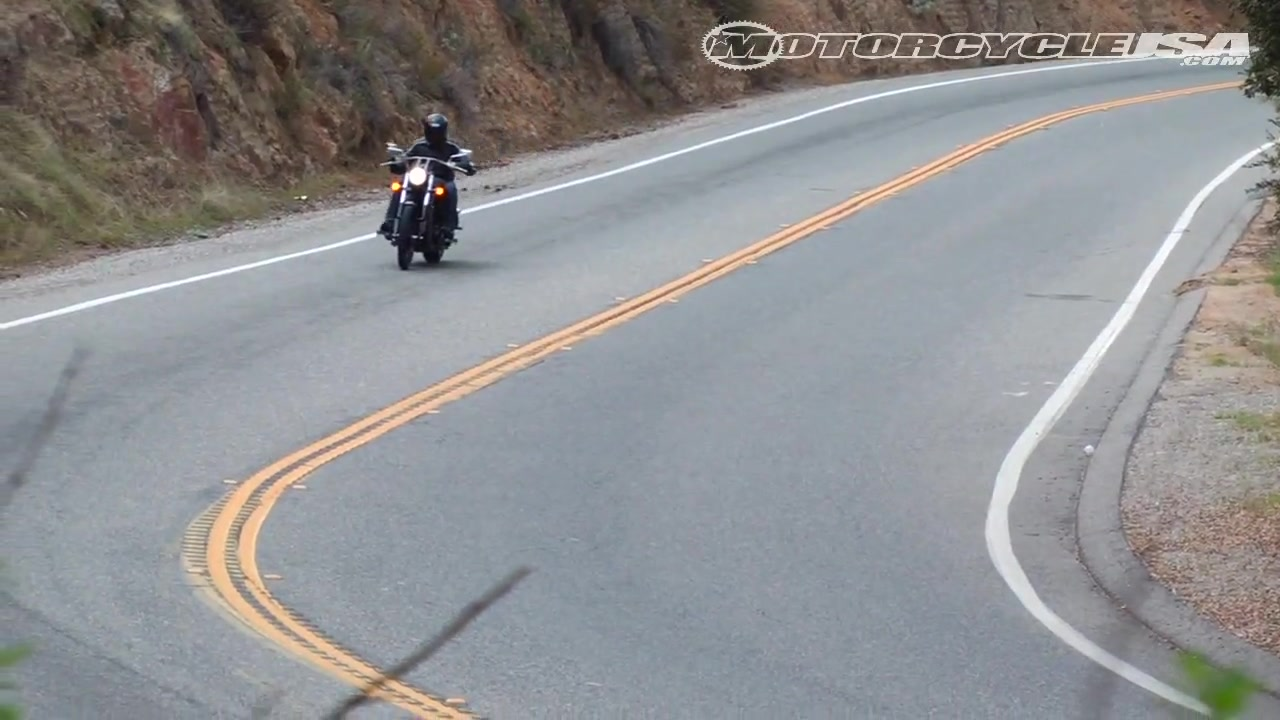motorbike: (377, 140, 478, 266)
